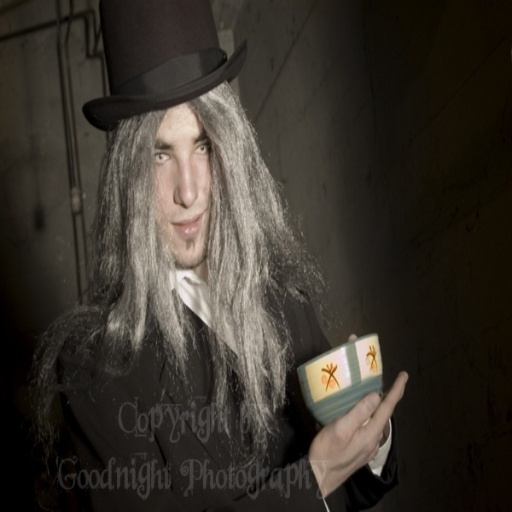hand: (302, 374, 410, 486)
